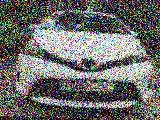car: (16, 7, 157, 112)
